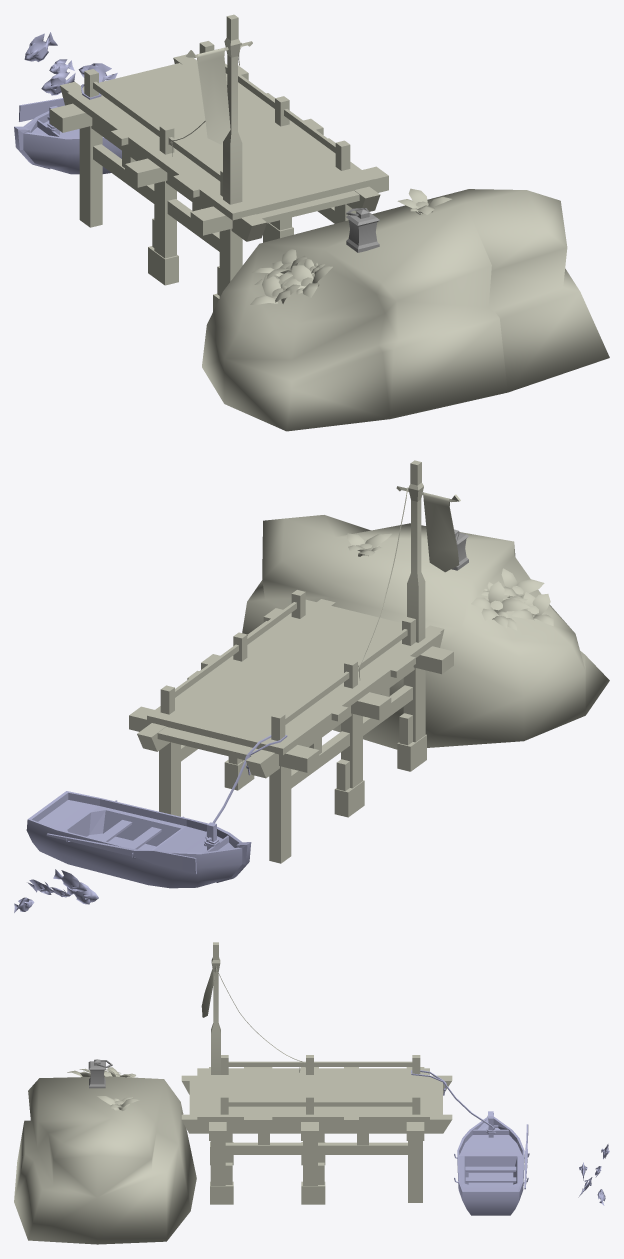
The picture shows the model from 3 angles, top to bottom: view 1: azimuth 30°, elevation 25°; view 2: azimuth 150°, elevation 25°; view 3: azimuth 270°, elevation 25°; orthographic projection. The views are drawn at different scales.
Parts seen in each view (by area): view 1: Stone, Bridge, Boat, Lamp.001; view 2: Bridge, Stone, Boat; view 3: Stone, Bridge, Boat, Lamp.001.
Boxes of the visible parts, bbox=[...] form: Stone: bbox=[202, 188, 609, 431]; Bridge: bbox=[50, 14, 388, 311]; Boat: bbox=[14, 98, 121, 174]; Lamp.001: bbox=[346, 208, 379, 252]; Bridge: bbox=[129, 460, 460, 863]; Stone: bbox=[242, 515, 609, 749]; Boat: bbox=[26, 791, 251, 888]; Stone: bbox=[14, 1067, 196, 1244]; Bridge: bbox=[181, 942, 452, 1204]; Boat: bbox=[454, 1111, 529, 1215]; Lamp.001: bbox=[88, 1059, 112, 1088].
Size of the model in its own units: 9896 by 8622 by 20847.
